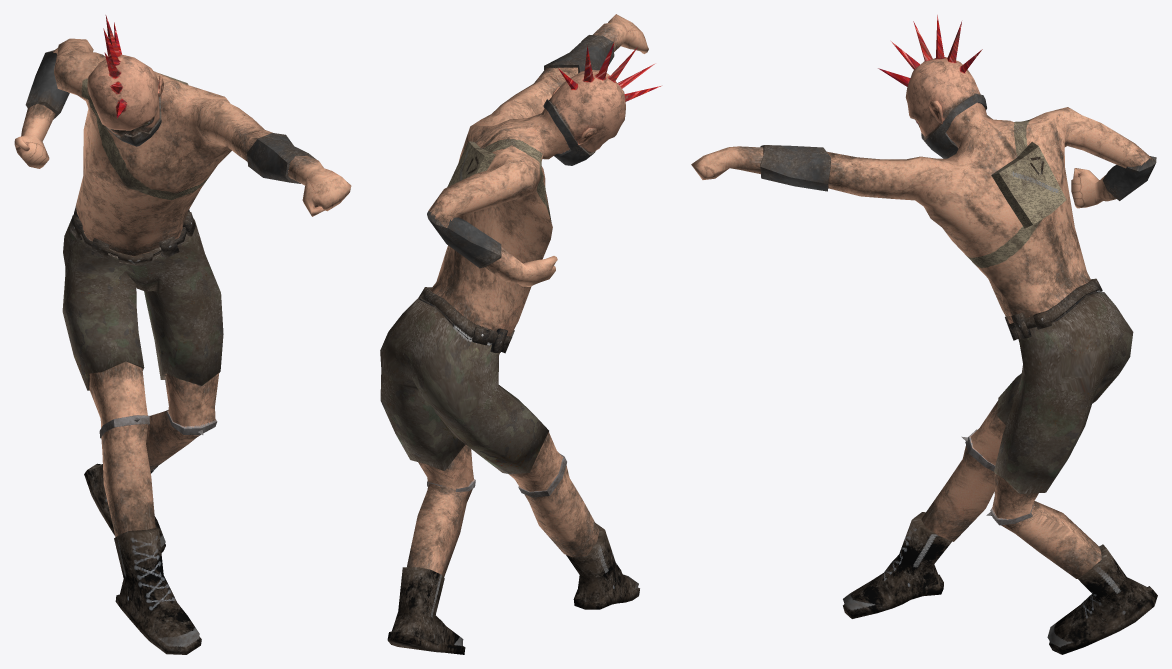
Rendered from Anim_ataque_d3_npc2.0032.obj.
3 views of the same model, side by side, from view 1: azimuth 30°, elevation 25°; view 2: azimuth 150°, elevation 25°; view 3: azimuth 270°, elevation 25° (orthographic). The views are drawn at different scales.
Parts seen in each view (by area): view 1: polySurface1; view 2: polySurface1; view 3: polySurface1.
Boxes of the visible parts, x1=… form: polySurface1: x1=14, y1=15, x2=351, y2=654; polySurface1: x1=380, y1=14, x2=660, y2=654; polySurface1: x1=691, y1=15, x2=1157, y2=654.
Size of the model in its own units: 2.87 by 8.89 by 6.43.
